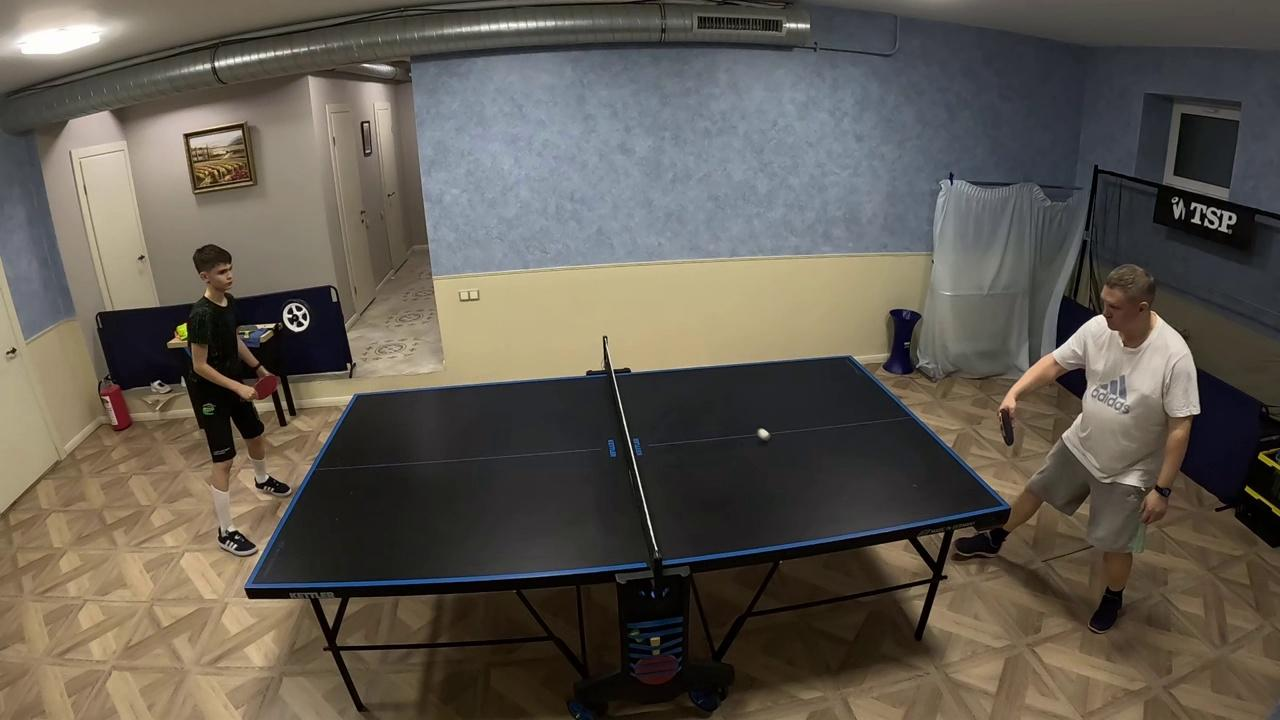Ball: (757, 427, 772, 444)
Net: (591, 336, 667, 599)
Player1: (184, 245, 290, 555)
Player2: (1000, 265, 1200, 633)
Table: (251, 371, 649, 595), (616, 357, 1002, 570)
